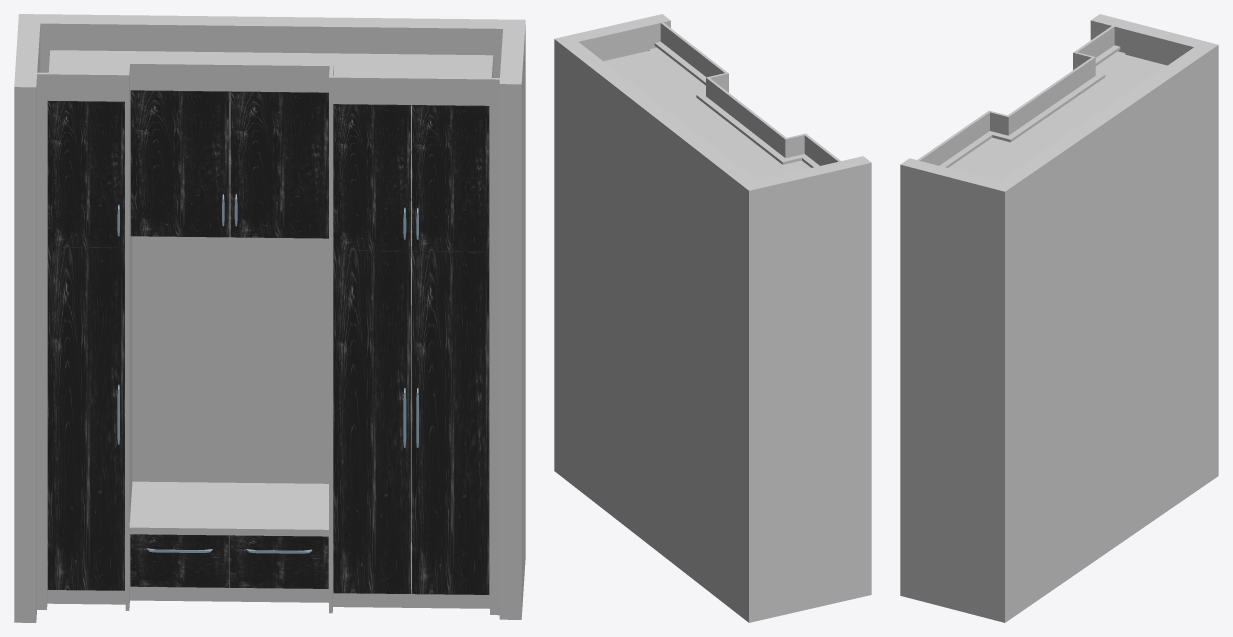
3 views of the same model, side by side, from view 1: azimuth 30°, elevation 25°; view 2: azimuth 150°, elevation 25°; view 3: azimuth 270°, elevation 25° (orthographic). The views are drawn at different scales.
Visible parts, largest first — view 1: Layer:doors, Layer:fillers, Layer:wall, Layer:buildup, Layer:cabinets, Layer:countertop, Layer:kick, Layer:handles; view 2: Layer:wall, Layer:cabinets, Layer:buildup; view 3: Layer:wall, Layer:cabinets, Layer:buildup.
Boxes of the visible parts, x1=… form: Layer:doors: x1=47, y1=90, x2=489, y2=594; Layer:fillers: x1=37, y1=51, x2=499, y2=615; Layer:wall: x1=14, y1=14, x2=525, y2=622; Layer:buildup: x1=37, y1=62, x2=499, y2=105; Layer:cabinets: x1=47, y1=50, x2=493, y2=593; Layer:countertop: x1=129, y1=481, x2=328, y2=536; Layer:kick: x1=47, y1=585, x2=489, y2=608; Layer:handles: x1=117, y1=194, x2=418, y2=553; Layer:wall: x1=554, y1=14, x2=871, y2=622; Layer:cabinets: x1=604, y1=48, x2=810, y2=180; Layer:buildup: x1=654, y1=22, x2=840, y2=167; Layer:wall: x1=900, y1=14, x2=1218, y2=622; Layer:cabinets: x1=948, y1=52, x2=1167, y2=181; Layer:buildup: x1=917, y1=26, x2=1120, y2=167.
Size of the model in its own units: 2.7 by 3.05 by 2.04.
4 materials, 1 textured.
